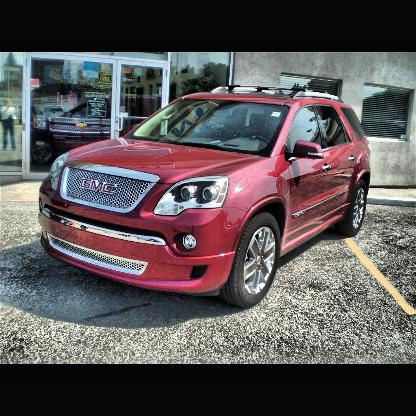GMC Acadia SUV 2012: (29, 88, 370, 309)
